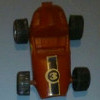rojo: (15, 2, 88, 100)
